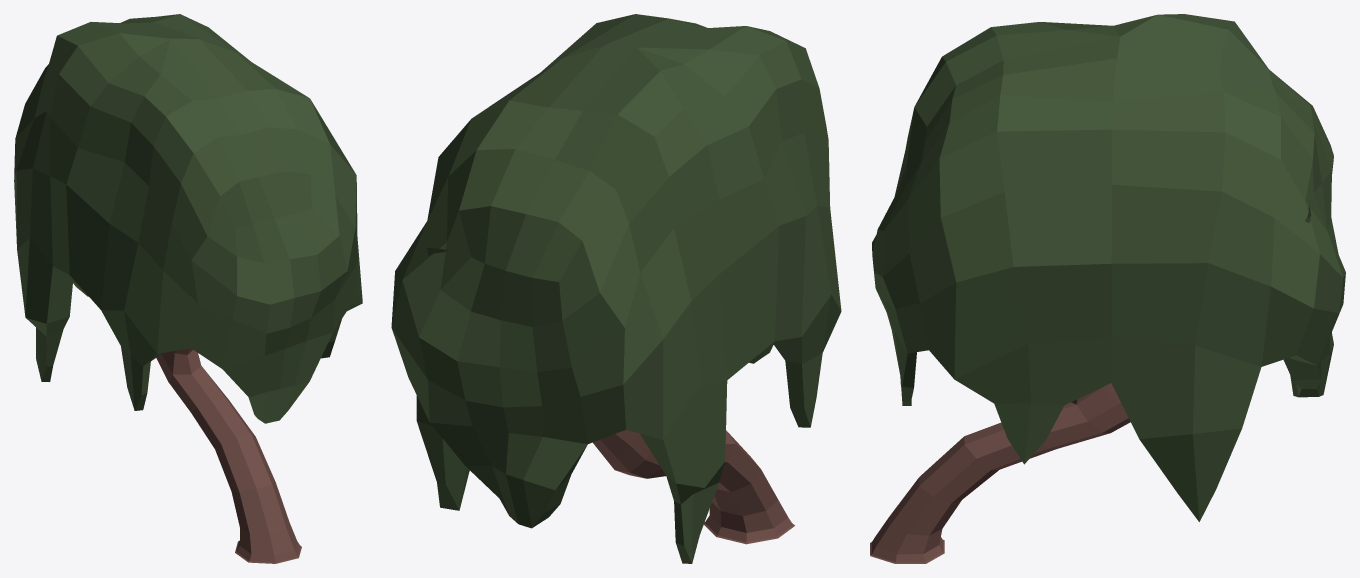
The model's file is Willow_3.glb.
3 views of the same model, side by side, from view 1: azimuth 30°, elevation 25°; view 2: azimuth 150°, elevation 25°; view 3: azimuth 270°, elevation 25° (orthographic). The views are drawn at different scales.
Parts seen in each view (by area): view 1: Willow_3; view 2: Willow_3; view 3: Willow_3.
Boxes of the visible parts, x1,y1,x2,y2 form: Willow_3: (14,14,362,563); Willow_3: (391,14,841,563); Willow_3: (870,14,1345,563).
Size of the model in its own units: 1.32 by 2.35 by 1.98.
